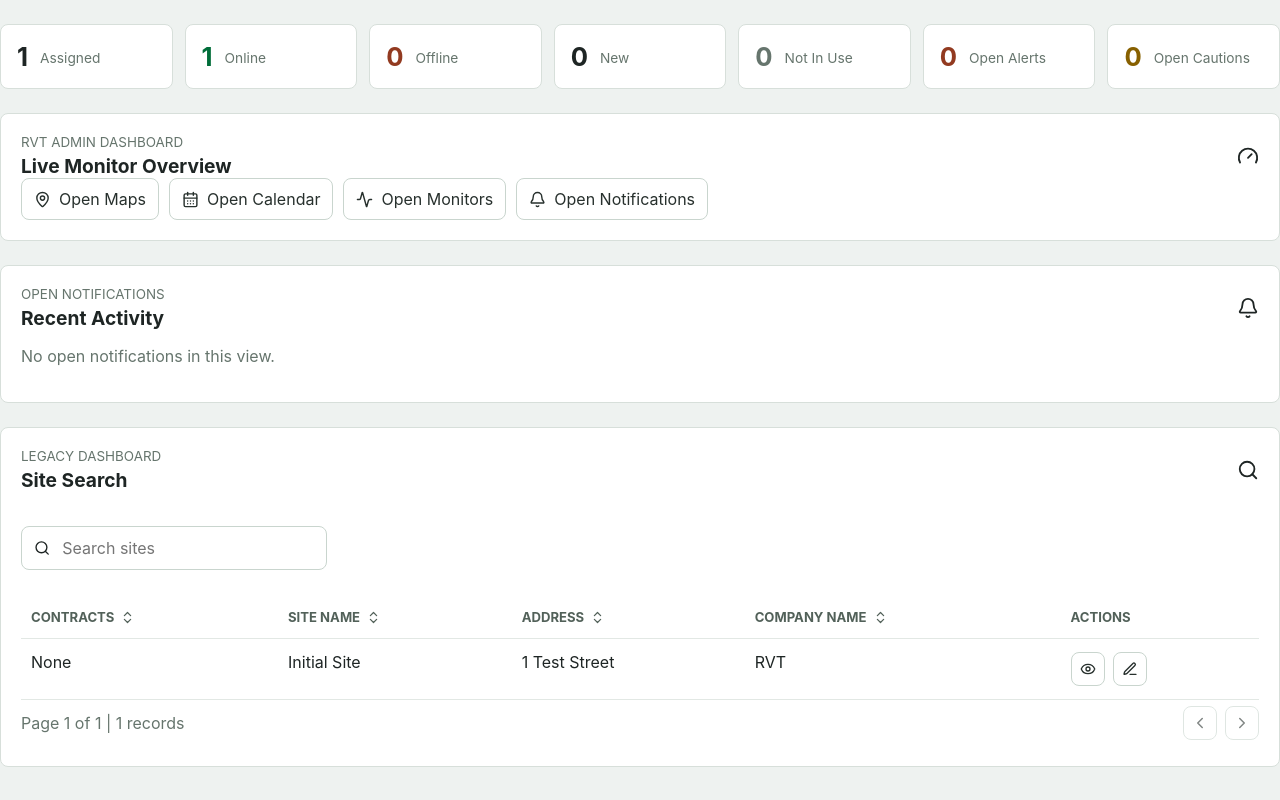
it: Portal dashboard request ownership › keeps the newest live site search result when an older query resolves last
The width and height of the screenshot is (1280, 800).
Type "alpha" into the field with placeholder "Search sites".
click(187, 548); type("alpha")  # box [60,537,314,559]
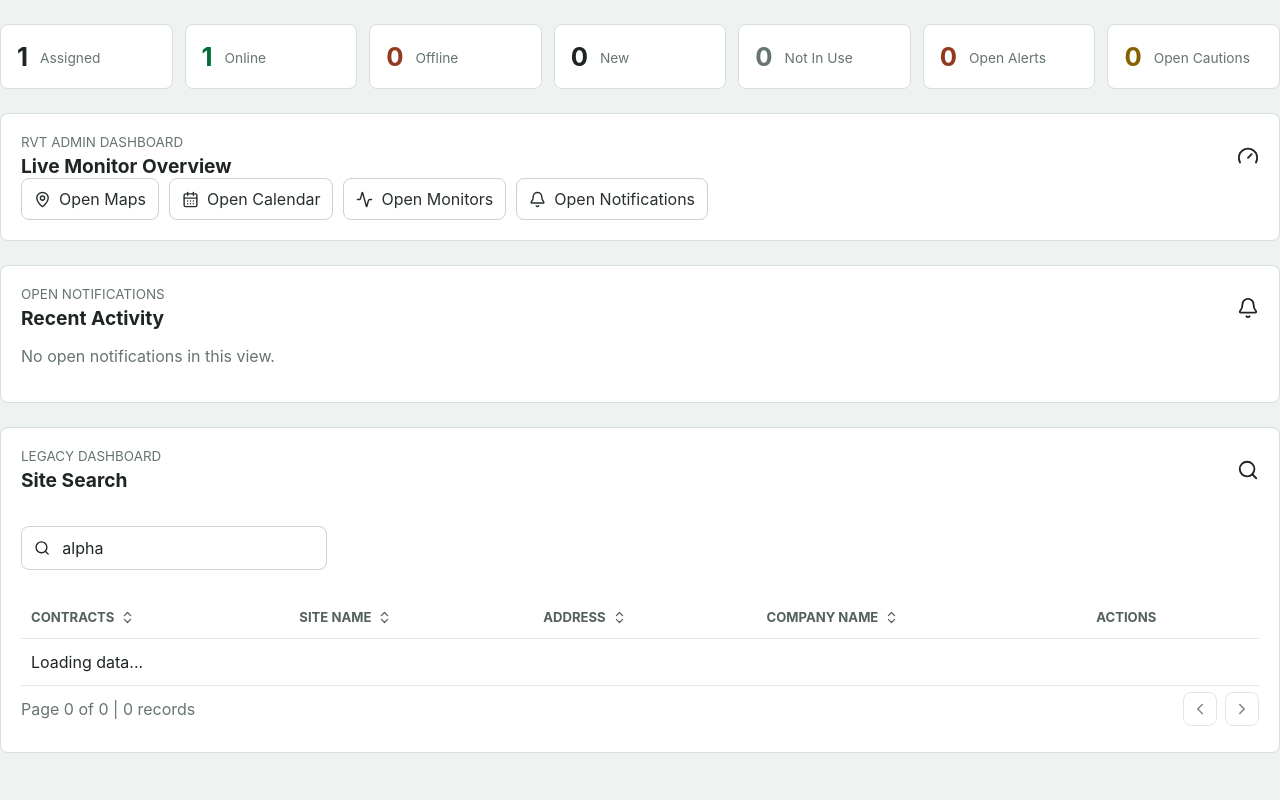
Replace the text in the field with placeholder "Search sites" with "beta" at (187, 548), box [60,537,314,559]
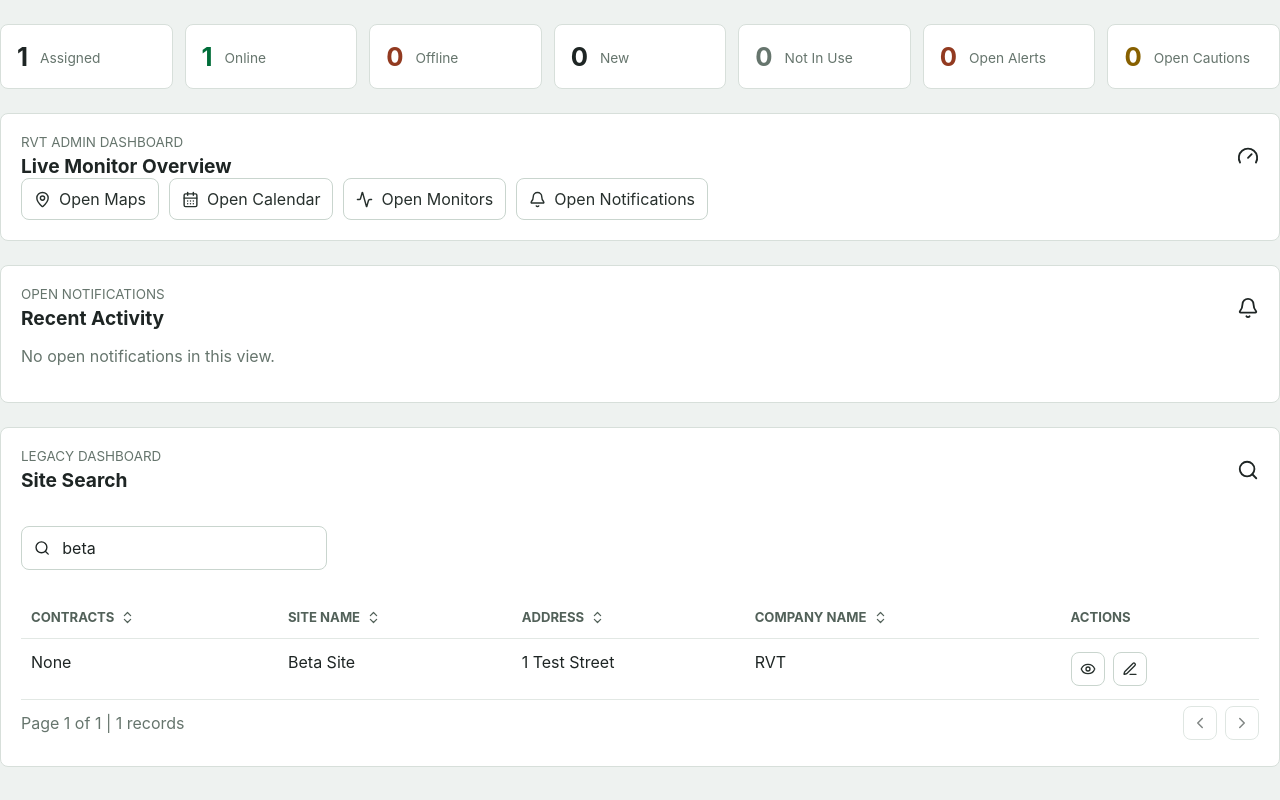
expect the text "Beta Site" is shown: met, box [278,638,512,700]
